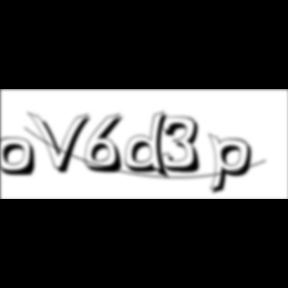3: (161, 116, 207, 176)
6: (84, 112, 130, 176)
V: (28, 110, 94, 176)
d: (125, 110, 175, 182)
o: (0, 137, 38, 179)
p: (209, 132, 259, 198)
